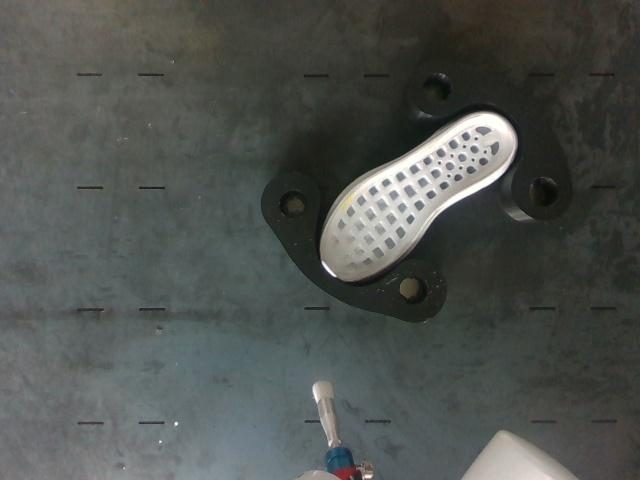shoes: (321, 113, 515, 281)
